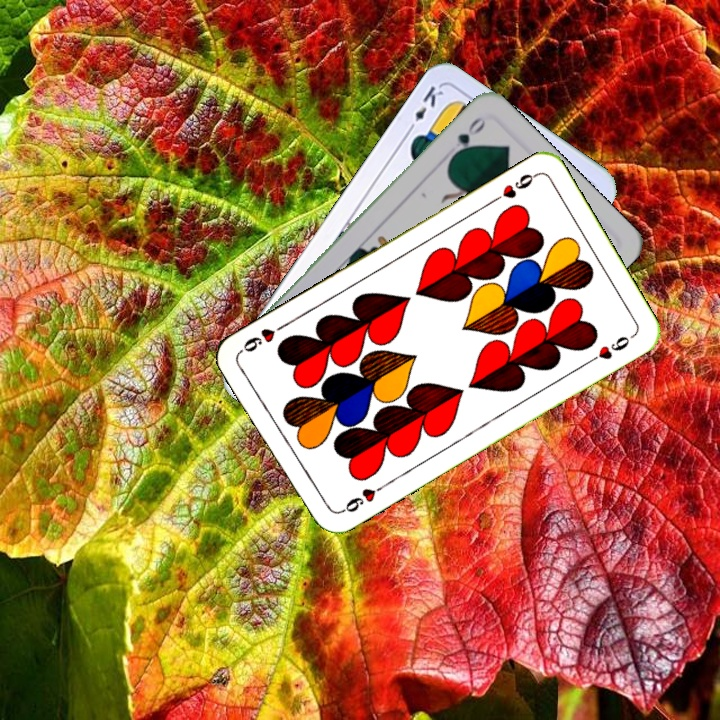EK: (403, 81, 446, 136)
GO: (442, 112, 489, 162)
H9: (487, 169, 540, 206), (334, 480, 388, 516)
